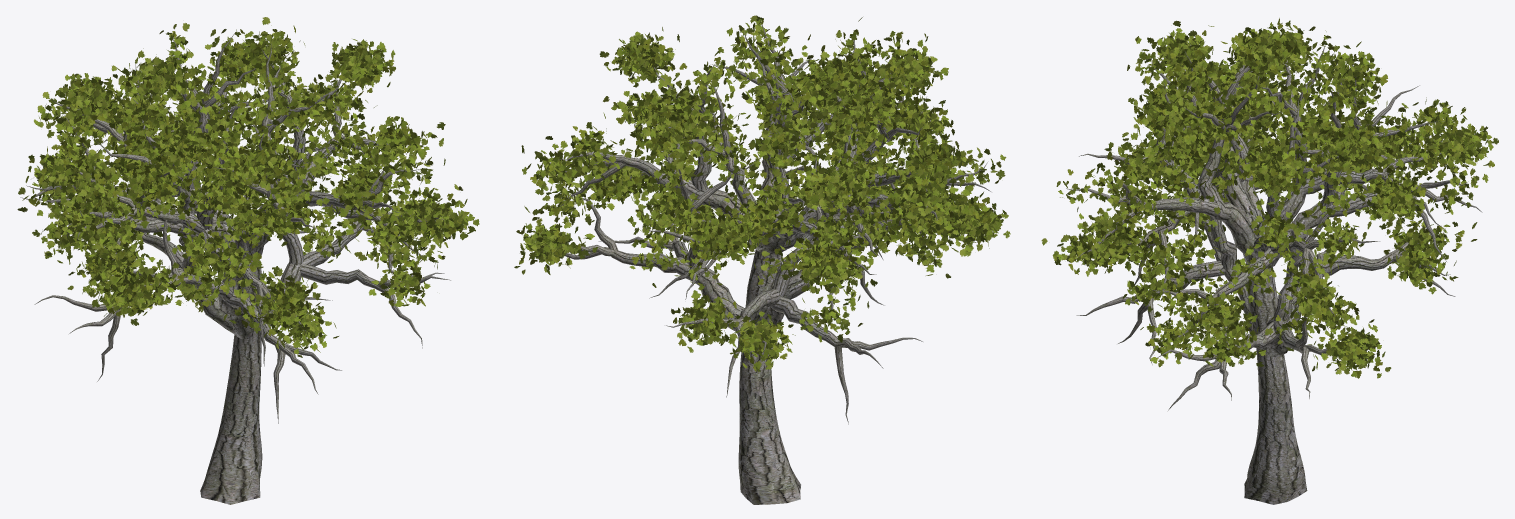
The model's file is maple_easytree_v018.glb.
3 renders of one model, left to right at view 1: azimuth 30°, elevation 25°; view 2: azimuth 150°, elevation 25°; view 3: azimuth 270°, elevation 25°, orthographic. The views are drawn at different scales.
Visible parts, largest first — view 1: Arce foliage cards, Arce_EasyTree_V018_Proof; view 2: Arce foliage cards, Arce_EasyTree_V018_Proof; view 3: Arce foliage cards, Arce_EasyTree_V018_Proof.
Part boxes in pixels (box(x1,y1,x2,y2)): Arce foliage cards: box(17, 17, 479, 357); Arce_EasyTree_V018_Proof: box(20, 33, 450, 504); Arce foliage cards: box(514, 15, 1010, 371); Arce_EasyTree_V018_Proof: box(554, 20, 990, 504); Arce foliage cards: box(1041, 18, 1498, 378); Arce_EasyTree_V018_Proof: box(1066, 34, 1482, 504).
Bounding box in the file's own units: 8.8 × 8.92 × 8.27.
Materials: 2 (2 with a texture image).
